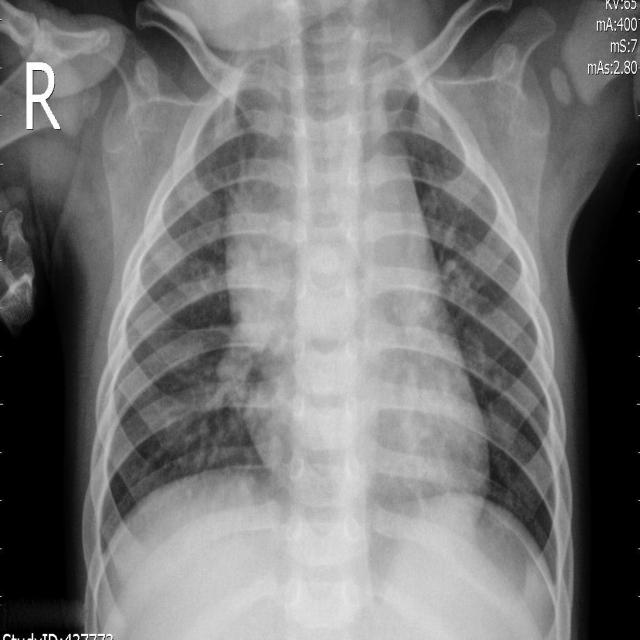low-pneumonia: (209, 60, 294, 170)
